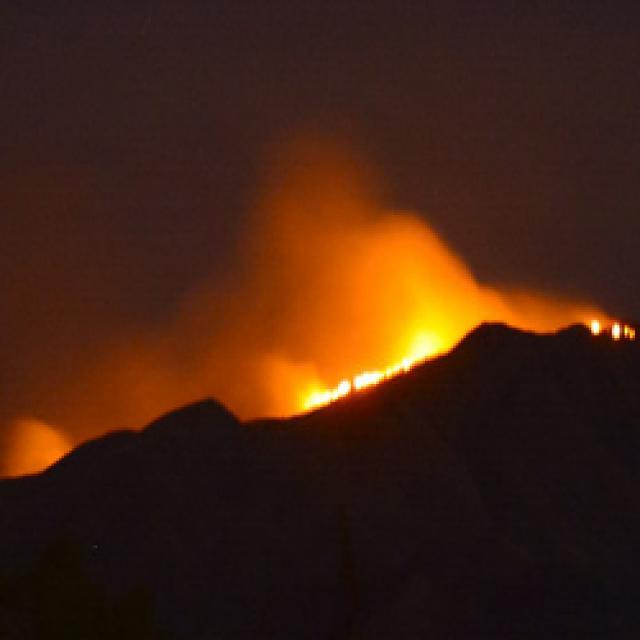Fire: (285, 318, 477, 421), (545, 282, 640, 354)
Smoke: (0, 417, 274, 484)
